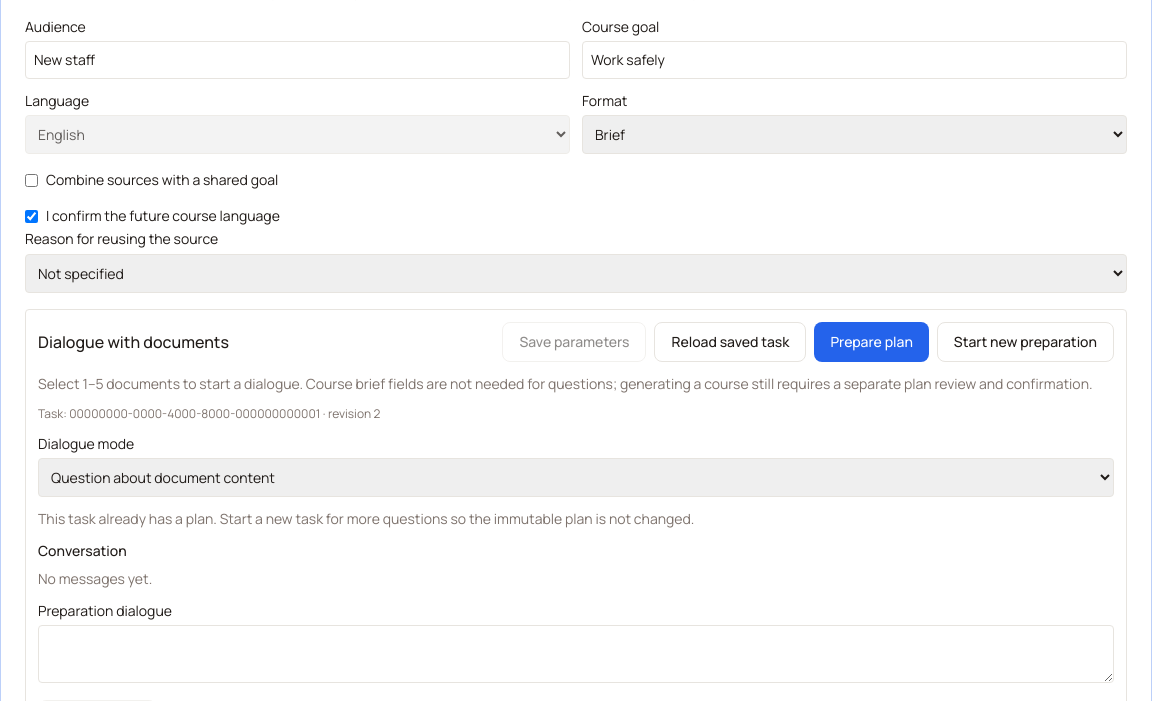
Test: document dialogue transport › lets an explicitly prepared task replace a linked plan confirmed expired by GET
(page scrolled)
Expected: the text "Task: 00000000-0000-4000-8000-000000000001 · revision 2" is shown, [38,405,380,422]
Click the button "Prepare plan".
click(872, 342)  # box [814,322,929,362]
(page scrolled)
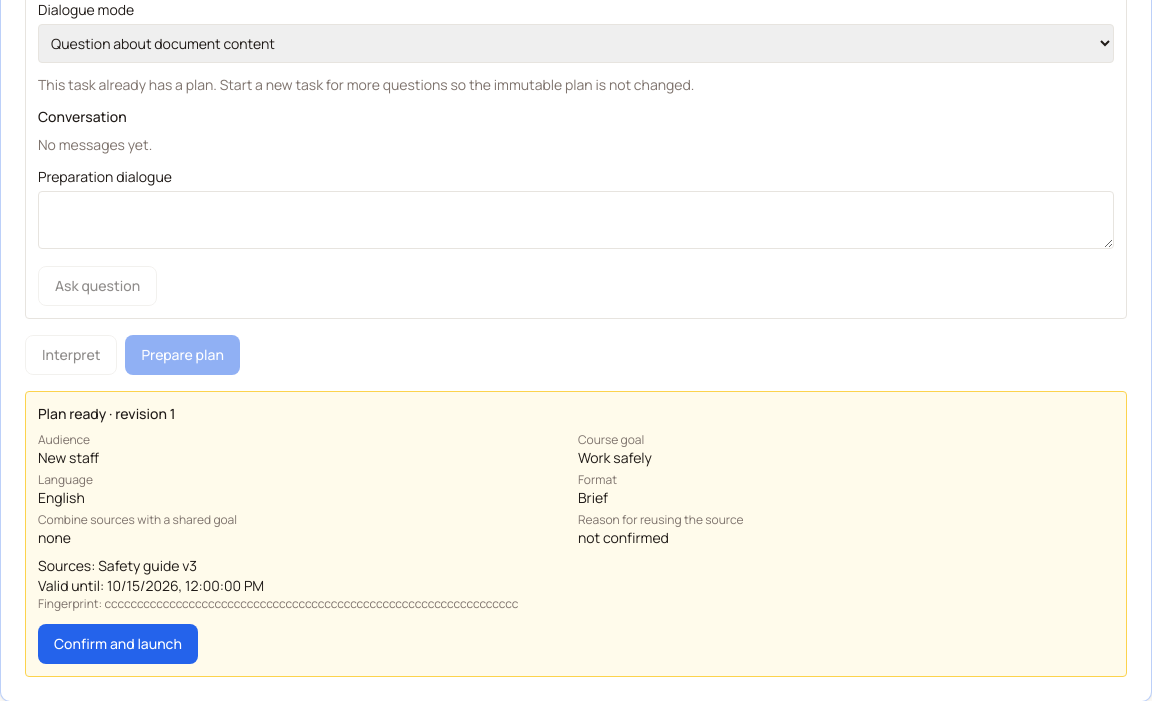
Now the text "Plan ready · revision 1" is shown, box [38,404,175,423]
